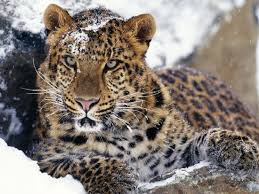amur_leopard: (22, 4, 203, 174)
